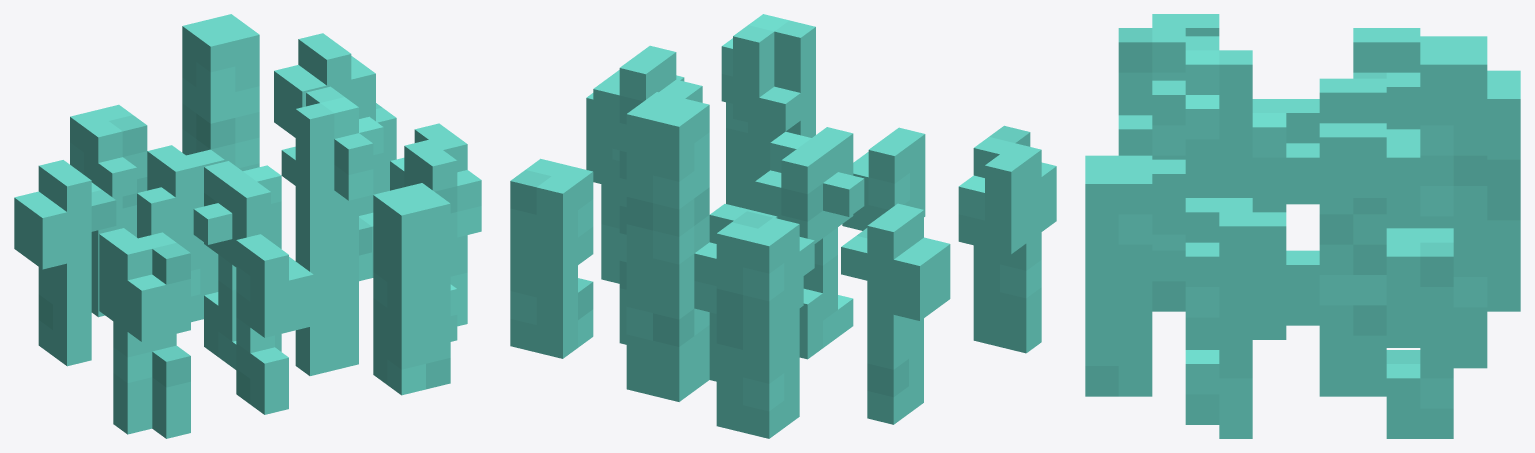
Rendered from crops_wheatStageA.glb.
3 views of the same model, side by side, from view 1: azimuth 30°, elevation 25°; view 2: azimuth 150°, elevation 25°; view 3: azimuth 270°, elevation 25° (orthographic). The views are drawn at different scales.
Parts seen in each view (by area): view 1: crops_wheatStageA; view 2: crops_wheatStageA; view 3: crops_wheatStageA.
Boxes of the visible parts, box(x1,y1,x2,y2) form: crops_wheatStageA: box(14, 14, 481, 438); crops_wheatStageA: box(510, 14, 1056, 438); crops_wheatStageA: box(1085, 14, 1520, 438).
Size of the model in its own units: 0.5625 by 0.375 by 0.4875.
Materials: 1 (1 with a texture image).
